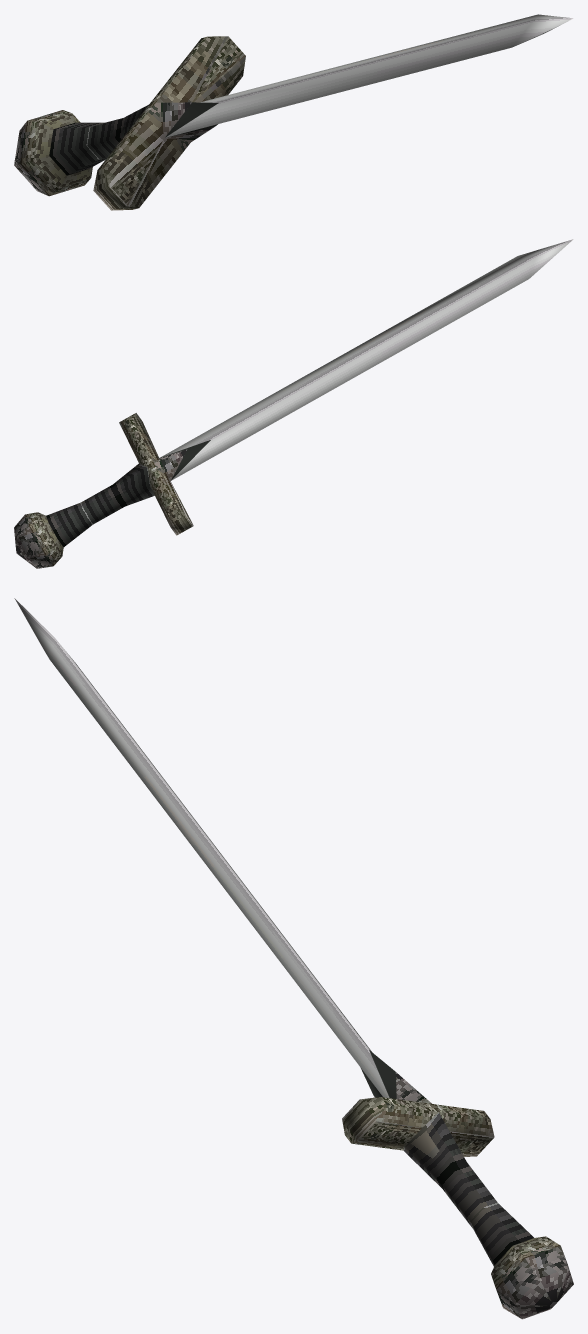
The model's file is CH11_CINE05_SAVECARWINFAILURE_SWORD.fbx.
3 views of the same model, one above another, from view 1: azimuth 90°, elevation 25°; view 2: azimuth 150°, elevation 25°; view 3: azimuth 270°, elevation 25° (orthographic). The views are drawn at different scales.
Visible parts, largest first — view 1: CH11_CINE05_SAVECARWINFAILURE_SWORD; view 2: CH11_CINE05_SAVECARWINFAILURE_SWORD; view 3: CH11_CINE05_SAVECARWINFAILURE_SWORD.
Boxes of the visible parts, left/top/right/bottom form: CH11_CINE05_SAVECARWINFAILURE_SWORD: left=14, top=14, right=573, bottom=210; CH11_CINE05_SAVECARWINFAILURE_SWORD: left=14, top=239, right=573, bottom=568; CH11_CINE05_SAVECARWINFAILURE_SWORD: left=14, top=598, right=573, bottom=1319.
Size of the model in its own units: 10129 by 7235 by 8287.
1 material, 1 textured.
